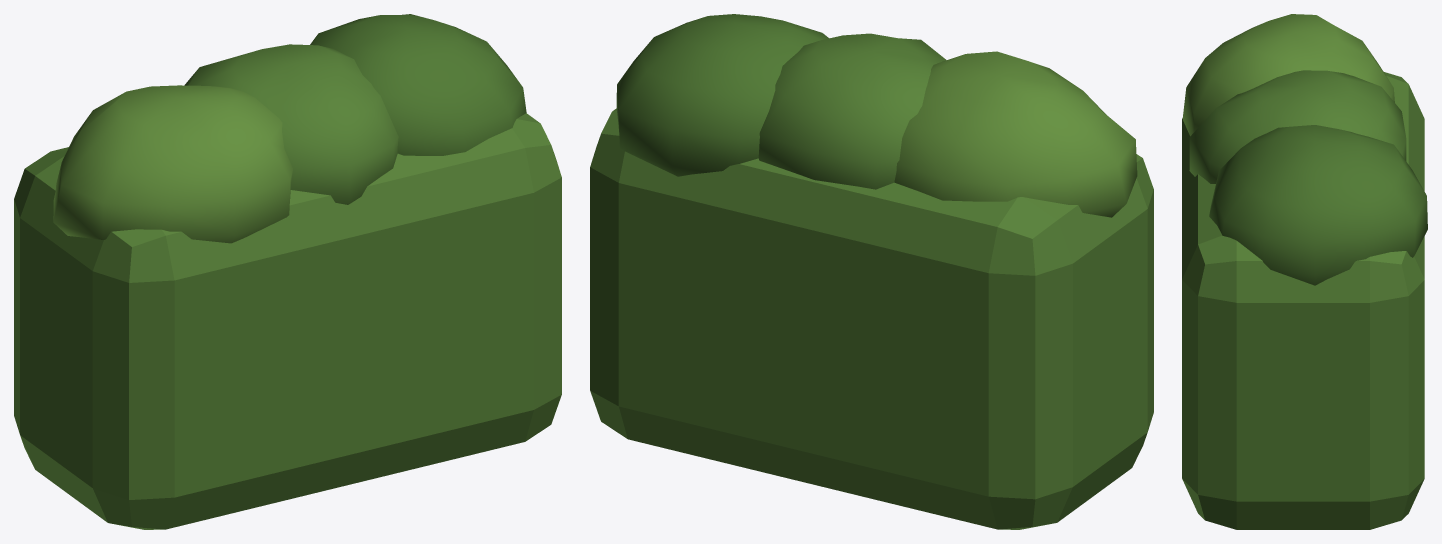
The model's file is hedge.glb.
3 renders of one model, left to right at view 1: azimuth 30°, elevation 25°; view 2: azimuth 150°, elevation 25°; view 3: azimuth 270°, elevation 25°, orthographic. The views are drawn at different scales.
Visible parts, largest first — view 1: hedge; view 2: hedge; view 3: hedge.
Boxes of the visible parts, x1=… form: hedge: x1=14, y1=14, x2=561, y2=529; hedge: x1=590, y1=14, x2=1153, y2=529; hedge: x1=1182, y1=14, x2=1427, y2=529.
Bounding box in the file's own units: 1.28 × 1.02 × 0.6281.
